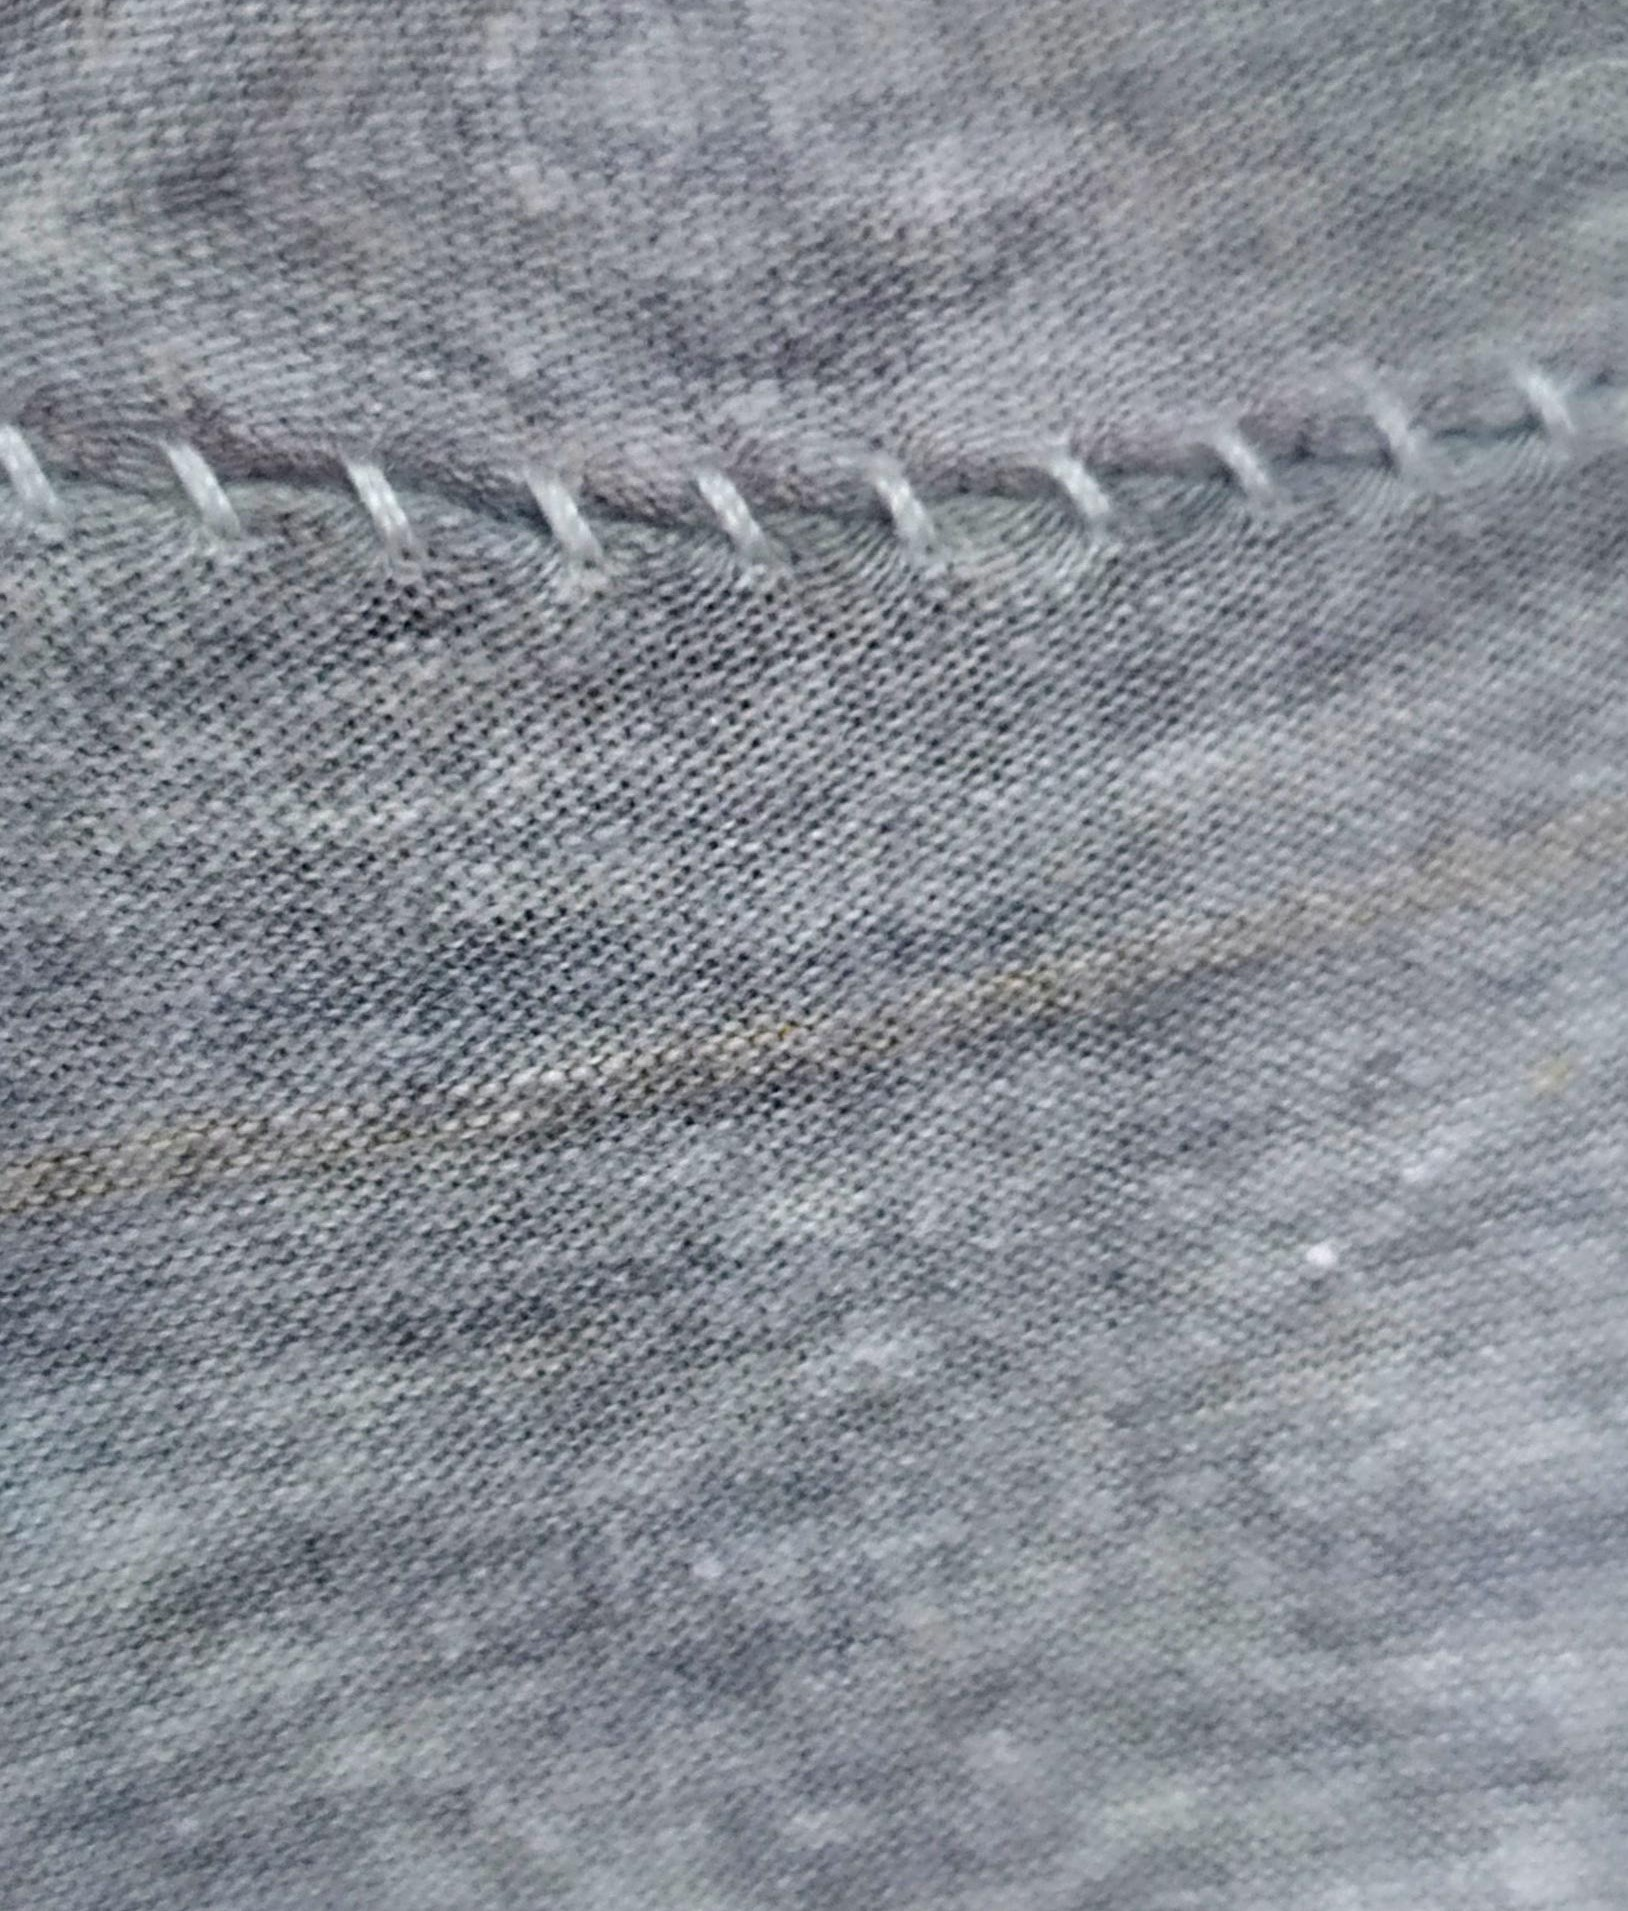slub: (2, 375, 1622, 572)
